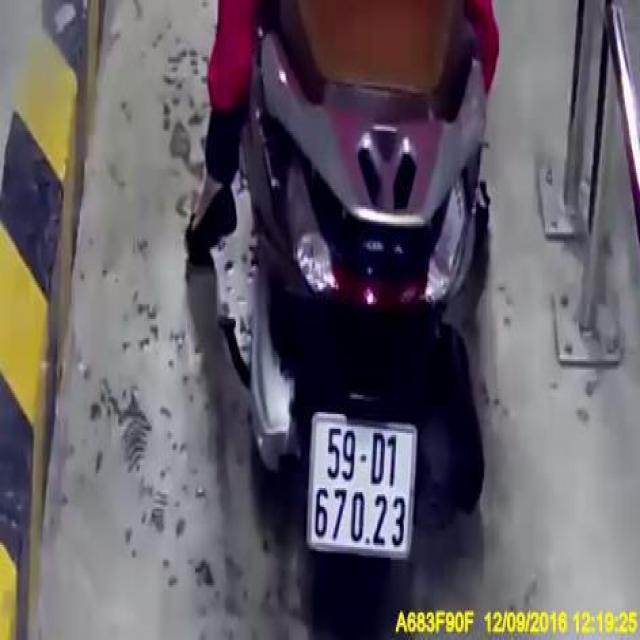License-Plates: (303, 400, 422, 566)
